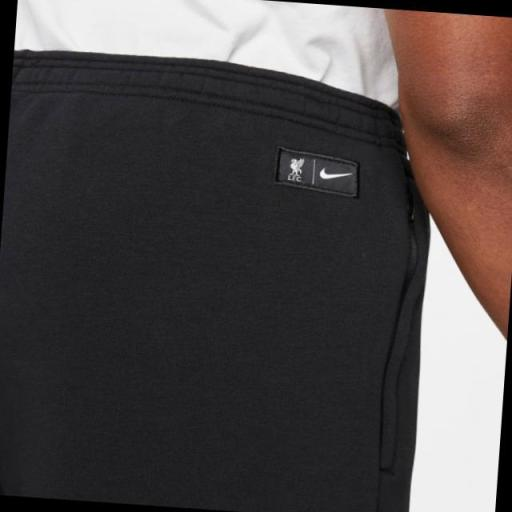Nike: (311, 160, 358, 186)
